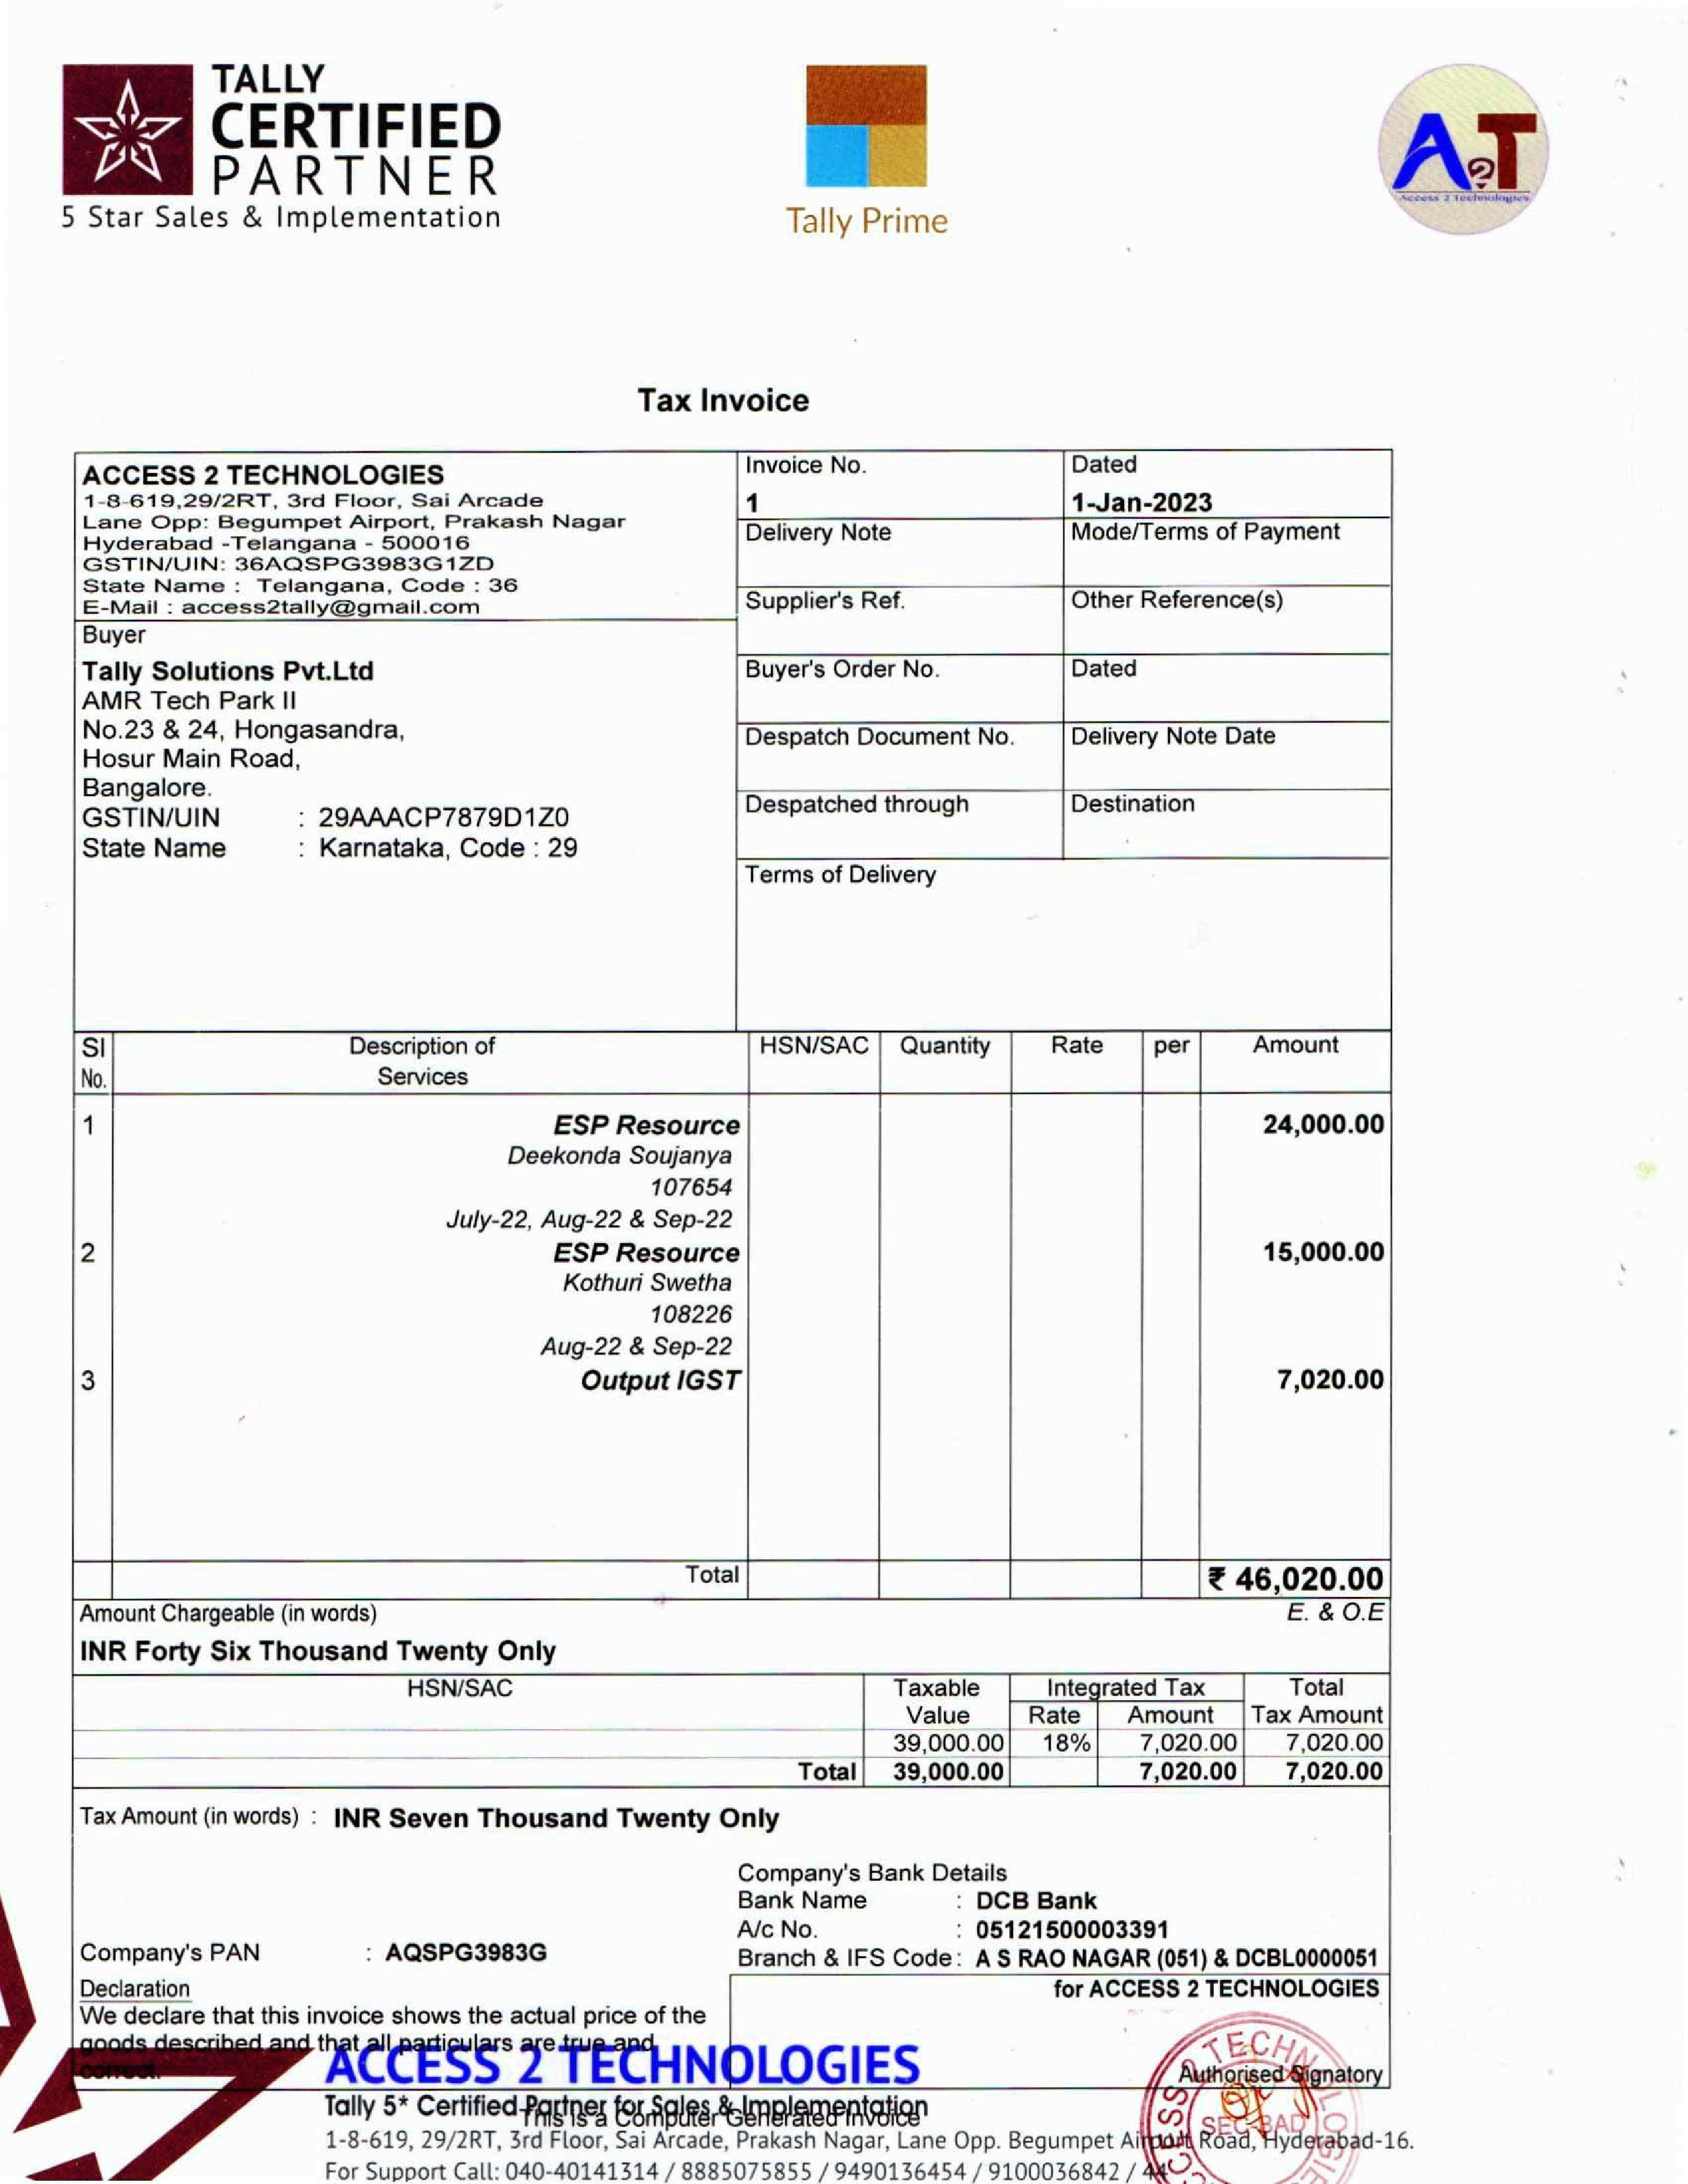InvoiceDate: (1064, 473, 1232, 523)
InvoiceNumber: (729, 480, 789, 511)
TotalAmount: (1186, 1549, 1404, 1603)
